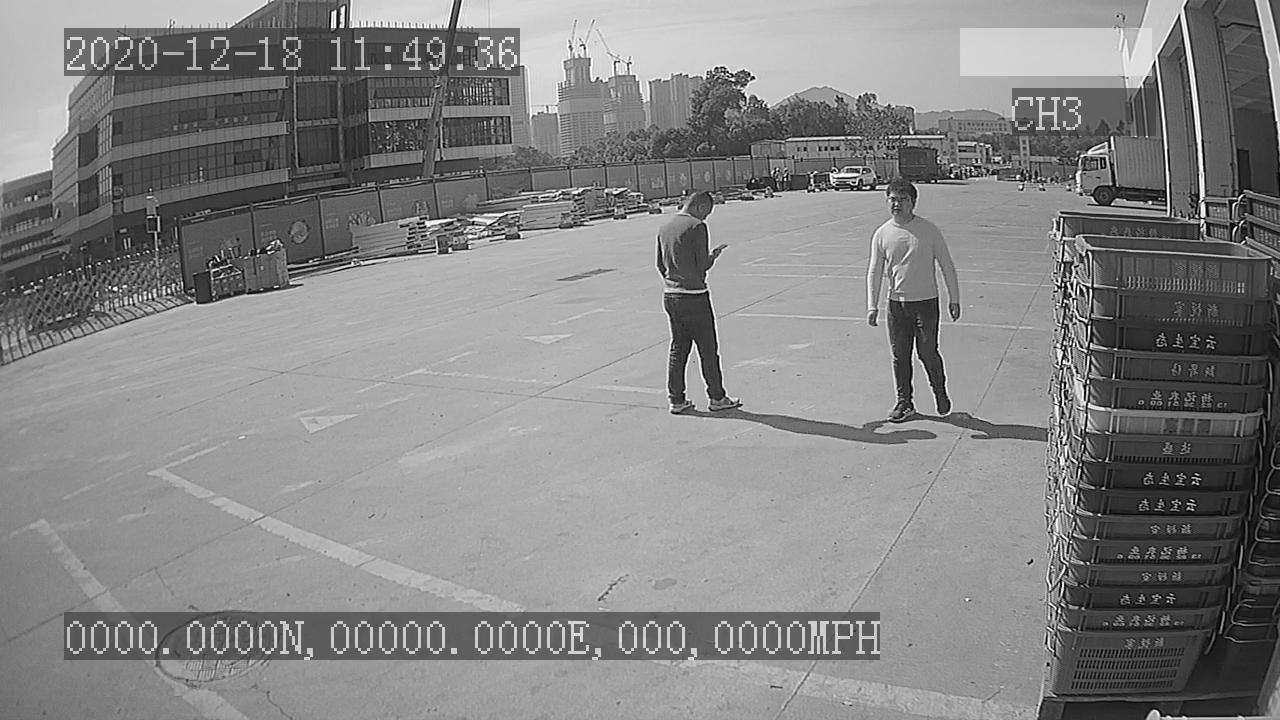person: (861, 177, 965, 427), (651, 185, 745, 419)
